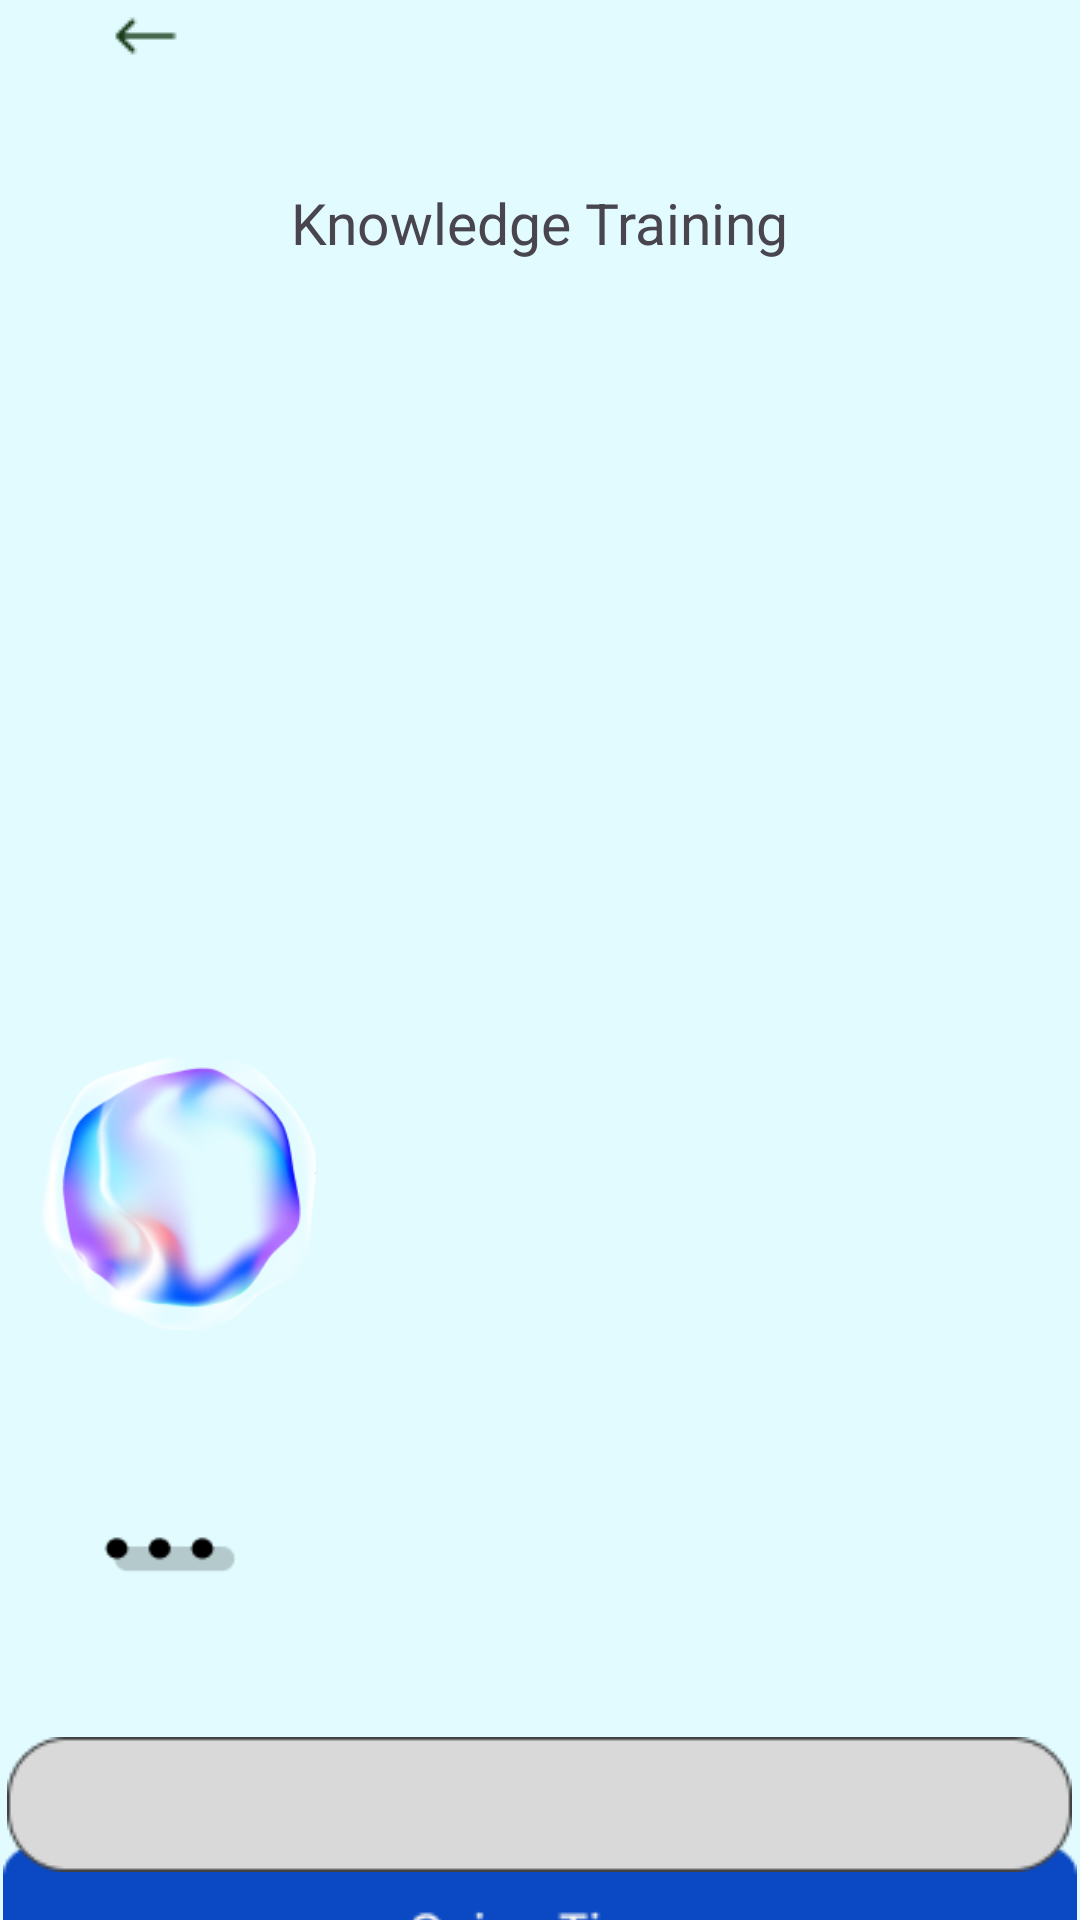

Icons on this 1080w x 1920h Android screen, each with the point to tap as (x,y):
back resources: (146,36)
resources chatting dot: (169,1554)
